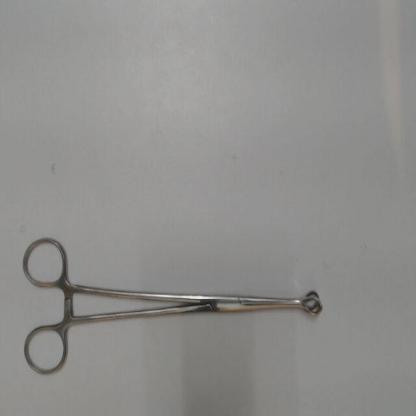8 Babcock Tissue Forceps: (15, 231, 328, 376)
